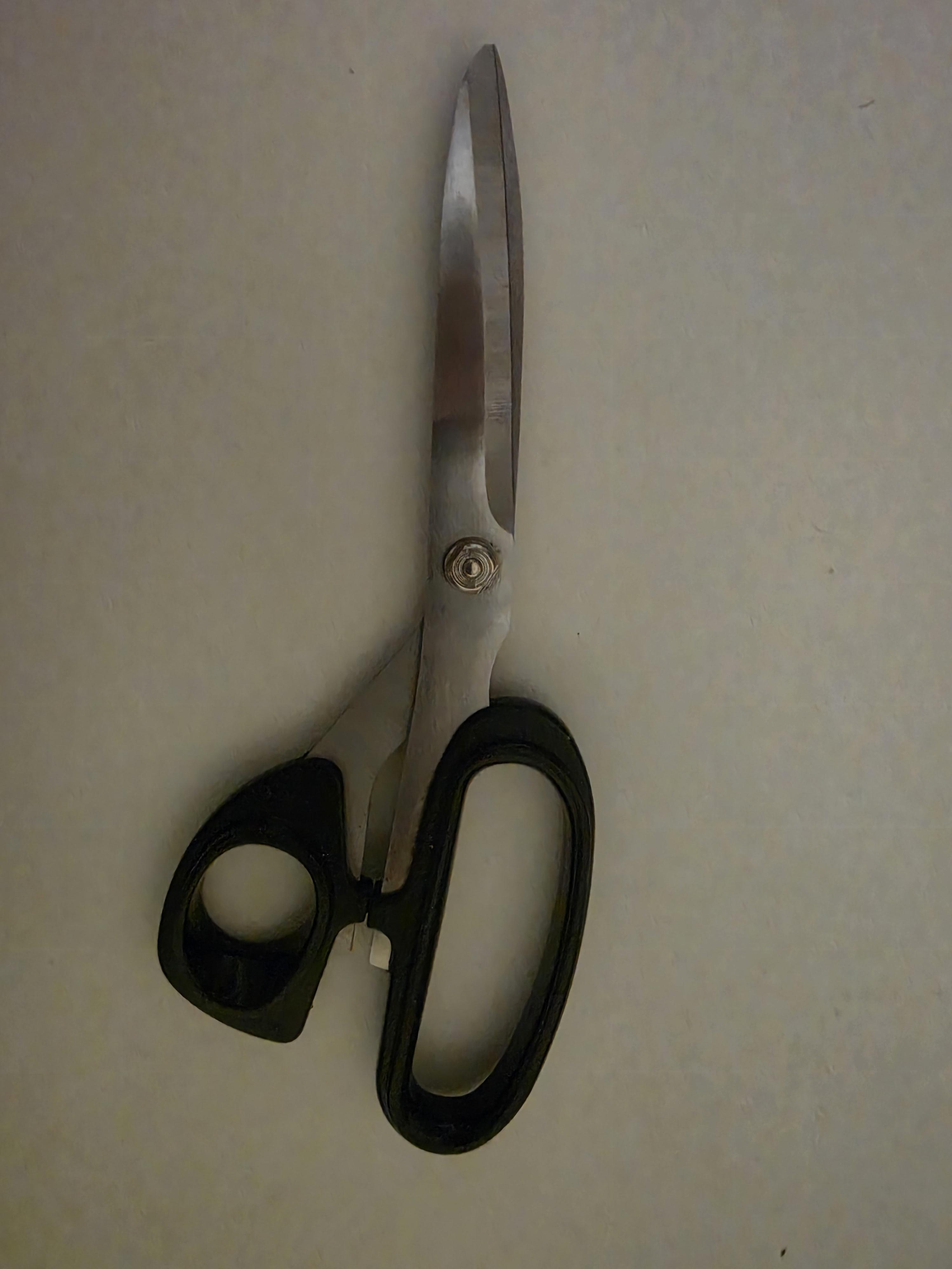scissors: (155, 42, 596, 1155)
